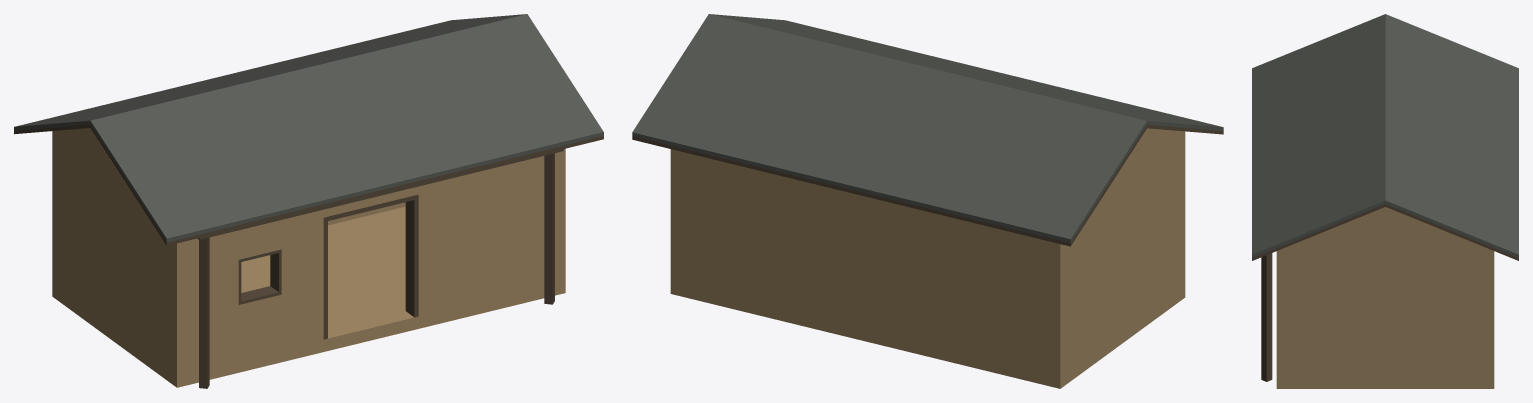
3 renders of one model, left to right at view 1: azimuth 30°, elevation 25°; view 2: azimuth 150°, elevation 25°; view 3: azimuth 270°, elevation 25°, orthographic. The views are drawn at different scales.
Visible parts, largest first — view 1: H72_v1_1__LY_P01_earth, H72_v1_1__LY_P01_tile, H72_v1_1__LY_P01_timber; view 2: H72_v1_1__LY_P01_earth, H72_v1_1__LY_P01_tile, H72_v1_1__LY_P01_timber; view 3: H72_v1_1__LY_P01_tile, H72_v1_1__LY_P01_earth, H72_v1_1__LY_P01_timber.
Part boxes in pixels (<box>): H72_v1_1__LY_P01_earth: <box>52,128,565,387</box>; H72_v1_1__LY_P01_tile: <box>14,14,603,242</box>; H72_v1_1__LY_P01_timber: <box>14,124,603,388</box>; H72_v1_1__LY_P01_earth: <box>670,128,1185,388</box>; H72_v1_1__LY_P01_tile: <box>632,14,1223,242</box>; H72_v1_1__LY_P01_timber: <box>632,125,1223,246</box>; H72_v1_1__LY_P01_tile: <box>1252,14,1518,257</box>; H72_v1_1__LY_P01_earth: <box>1276,207,1494,388</box>; H72_v1_1__LY_P01_timber: <box>1252,204,1518,381</box>.
Bounding box in the file's own units: 8.1 × 4.03 × 4.9.
